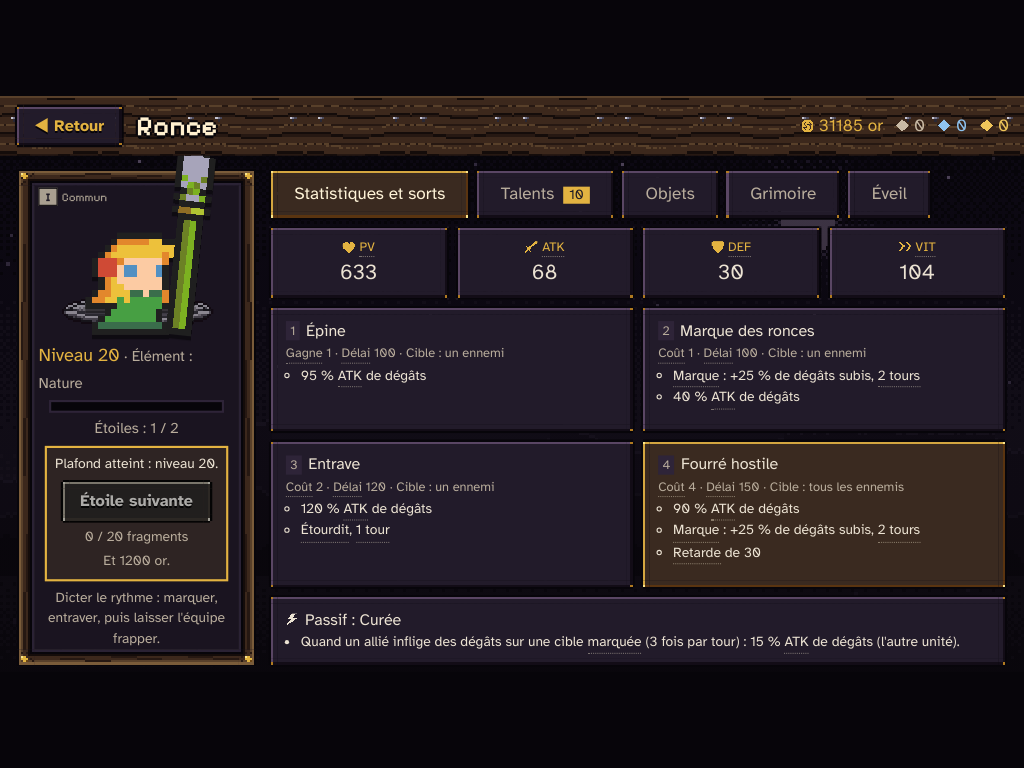
Test: sanctuaires d’essence et éveil › cas signalé : niveau atteint, essences manquantes dites en clair, où les gagner
Click the tab "Éveil": (889, 194) [846,168,932,220]
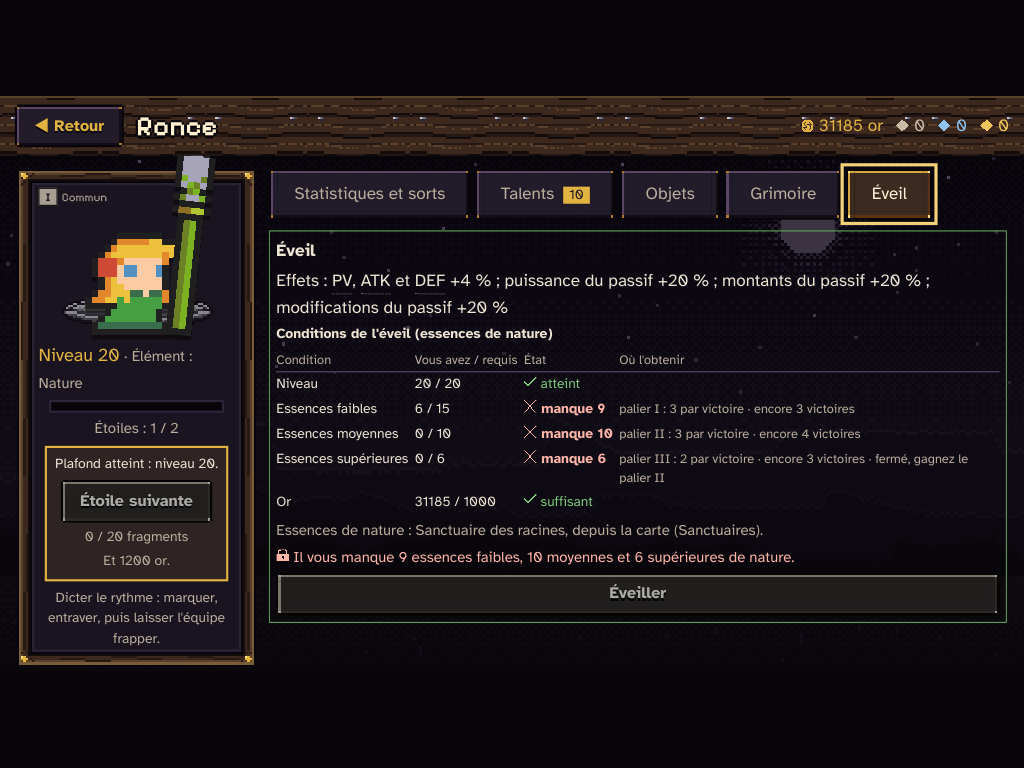
Expected: the button "Éveiller" is disabled, [276,572,1000,615]
Expected: the row "Niveau 20 / 20 atteint" is shown, [276,371,1000,397]
Expected: the row "Essences faibles" shows "6 / 15", [415,400,450,417]
